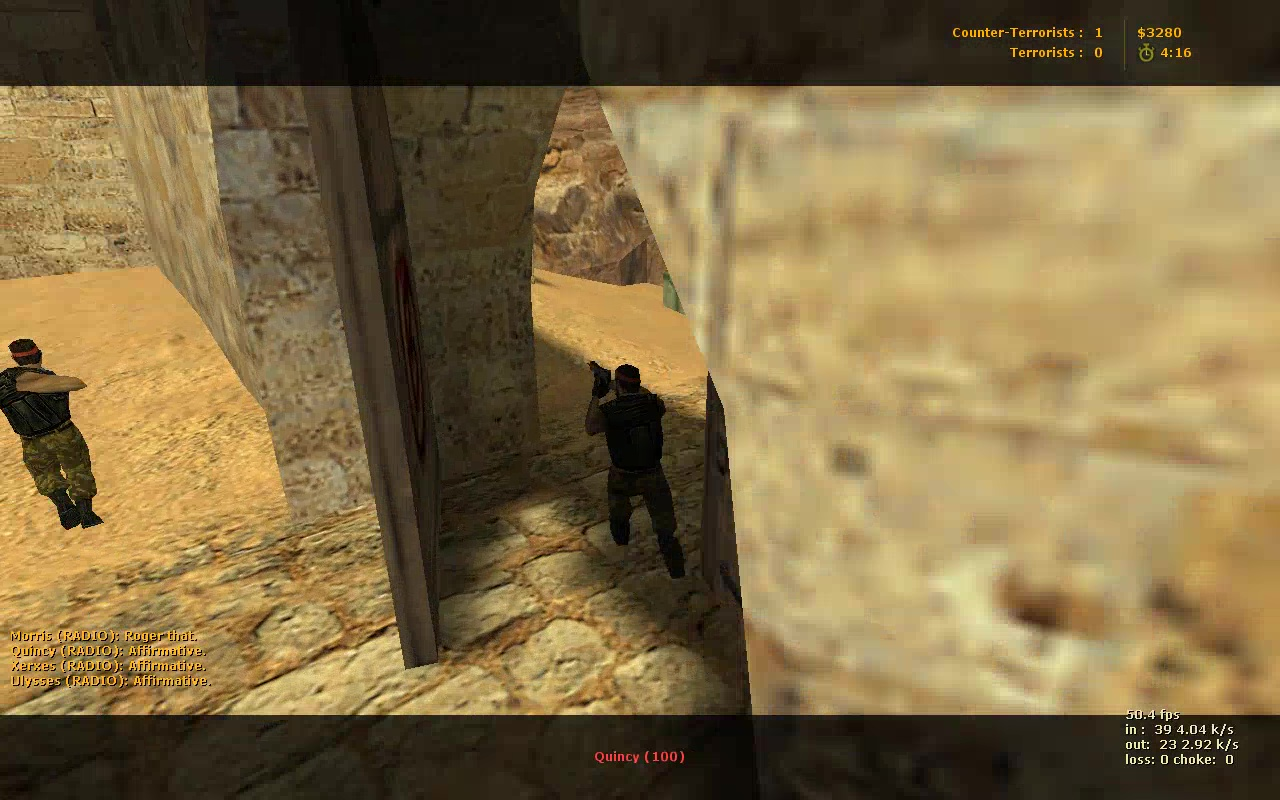terr1: (585, 361, 688, 577), (1, 339, 97, 531)
